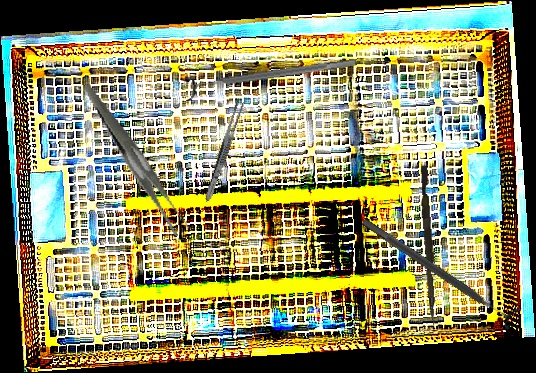Dressing Forceps: (83, 68, 192, 250), (202, 97, 246, 204)
Fixation Ring: (355, 209, 523, 332), (182, 48, 359, 103)
Pusher: (417, 165, 441, 327)
